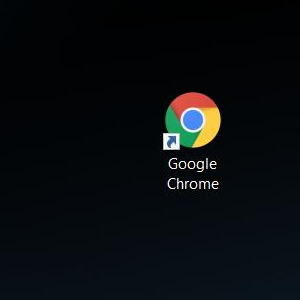chrome: (162, 92, 220, 150)
